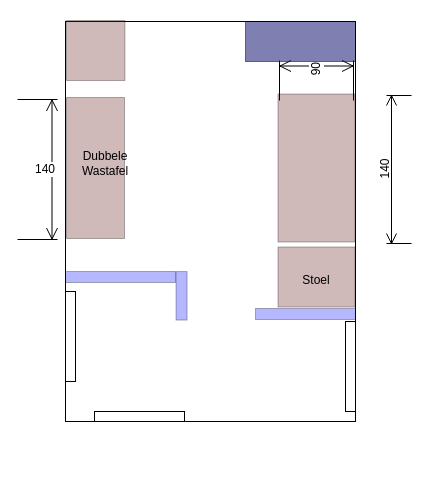
This 429x478 diagram has some shape labels left out. The shapes that lost their labels are listed below. From the top down, each one's centre as x and y in pixels, then its label:
(x=95, y=50): Kast
(x=300, y=41): Collector
(x=316, y=167): Douche
